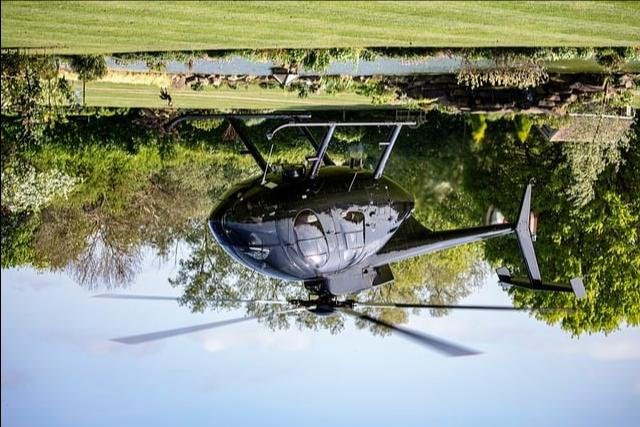Non_Gorille: (95, 70, 578, 396)
